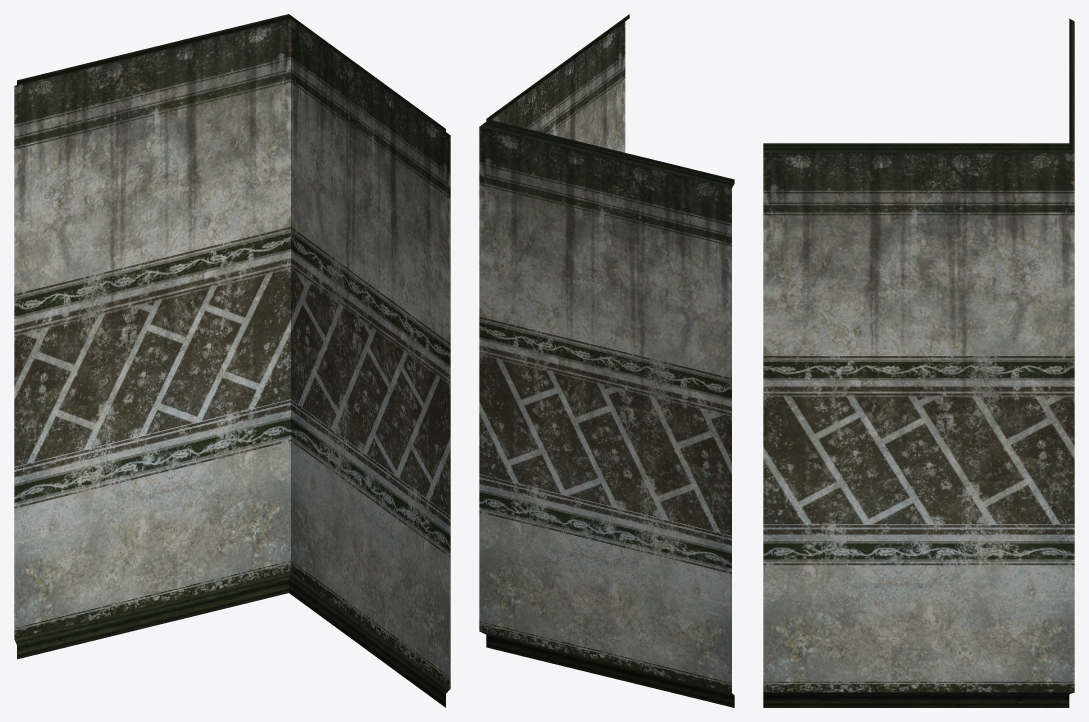
File: waitingroom_damaged_concave.dae
3 views of the same model, side by side, from view 1: azimuth 30°, elevation 25°; view 2: azimuth 150°, elevation 25°; view 3: azimuth 270°, elevation 25° (orthographic). The views are drawn at different scales.
Parts seen in each view (by area): view 1: polySurface149; view 2: polySurface149; view 3: polySurface149.
Part boxes in pixels (x1,y1,x2,y2): polySurface149: [14, 14, 450, 707]; polySurface149: [479, 14, 734, 707]; polySurface149: [763, 18, 1074, 707].
Size of the model in its own units: 2 by 4 by 2.
